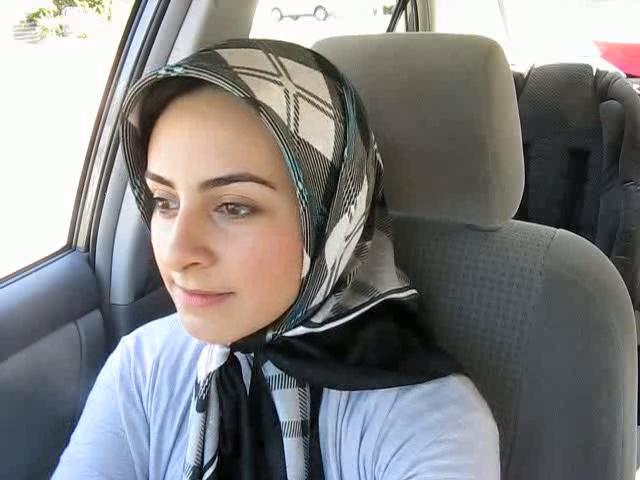no_yawn: (157, 276, 244, 316)
open_eyeL: (142, 184, 183, 222)
open_eyeR: (205, 189, 271, 229)
